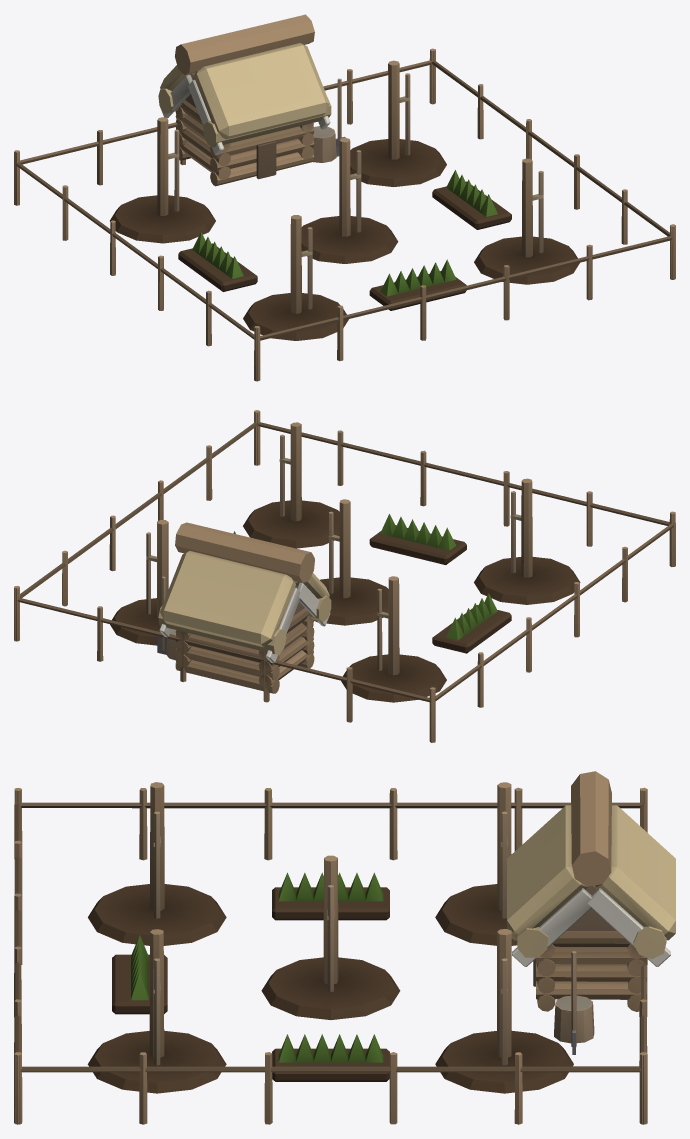
The model's file is bld_roshcha.glb.
3 views of the same model, one above another, from view 1: azimuth 30°, elevation 25°; view 2: azimuth 150°, elevation 25°; view 3: azimuth 270°, elevation 25° (orthographic). The views are drawn at different scales.
Parts seen in each view (by area): view 1: roshcha; view 2: roshcha; view 3: roshcha.
Part boxes in pixels (x1,y1,x2,y2): roshcha: (14,14,675,381); roshcha: (14,410,675,742); roshcha: (14,771,675,1124).
Bounding box in the file's own units: 1.82 × 0.5866 × 1.91.
